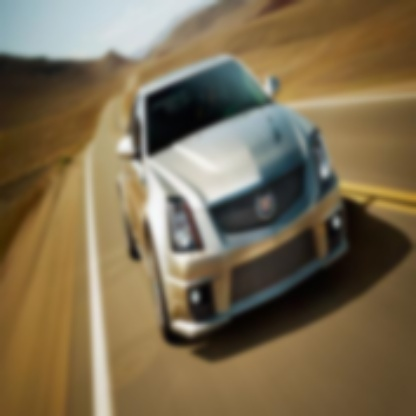Vehicle: (115, 51, 349, 347)
